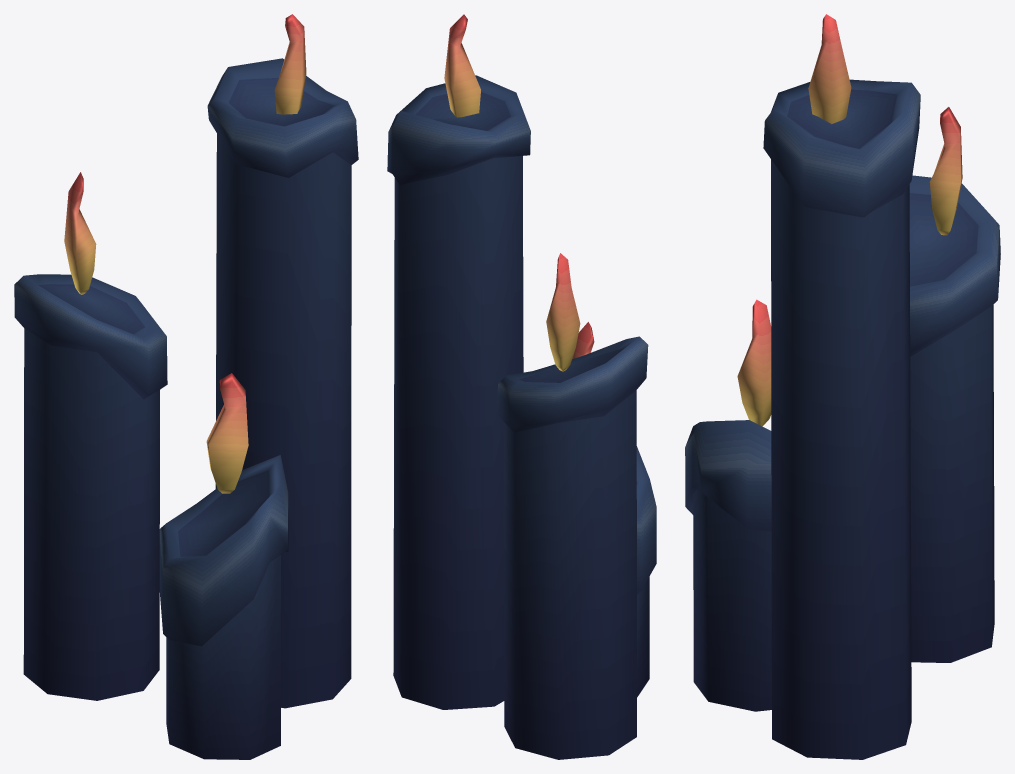
Rendered from Black_Candles_Small.fbx.
3 views of the same model, side by side, from view 1: azimuth 30°, elevation 25°; view 2: azimuth 150°, elevation 25°; view 3: azimuth 270°, elevation 25° (orthographic). The views are drawn at different scales.
Visible parts, largest first — view 1: pCube32; view 2: pCube32; view 3: pCube32.
Boxes of the visible parts, x1=… form: pCube32: x1=14, y1=14, x2=358, y2=759; pCube32: x1=387, y1=14, x2=656, y2=759; pCube32: x1=685, y1=14, x2=1000, y2=759.
Size of the model in its own units: 0.785 by 1.83 by 0.7244.
